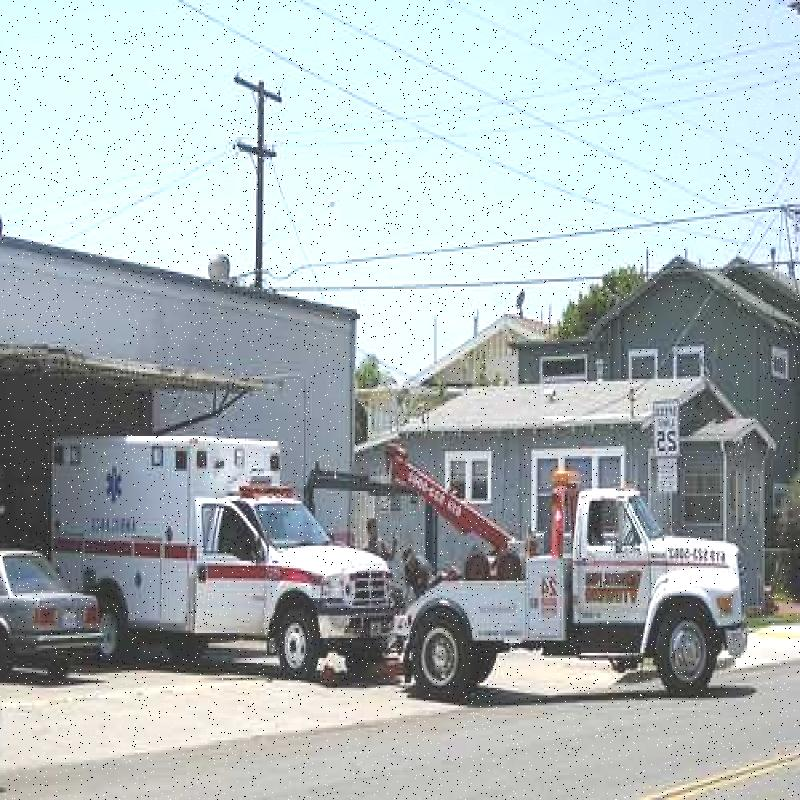AmbulanceSiren: (220, 466, 308, 517)
